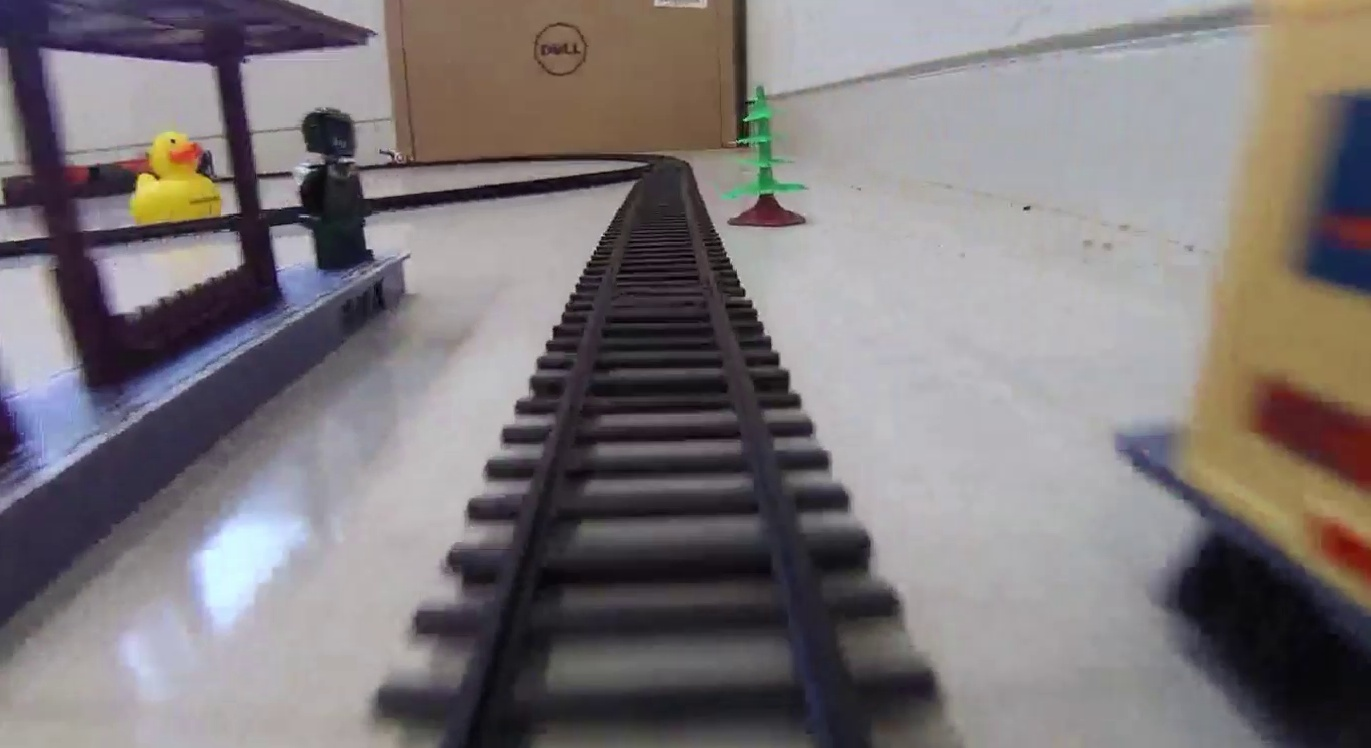people: (297, 107, 378, 271)
tree: (724, 84, 809, 227)
